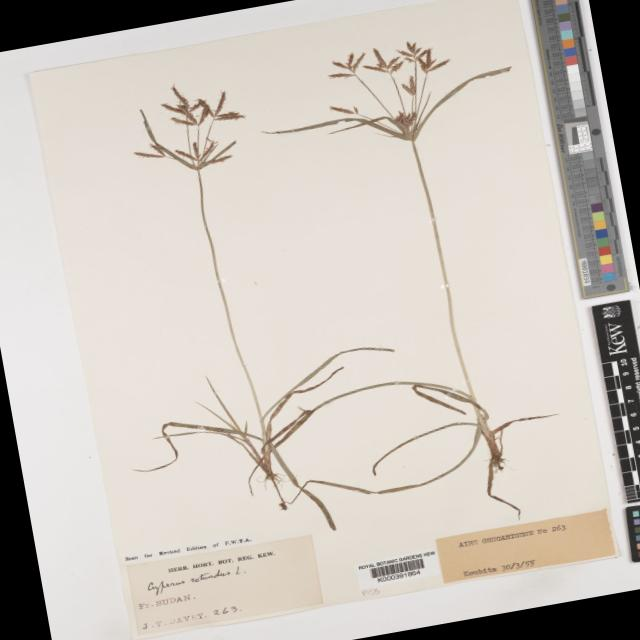cyperus: (313, 31, 458, 119), (140, 74, 248, 184)
